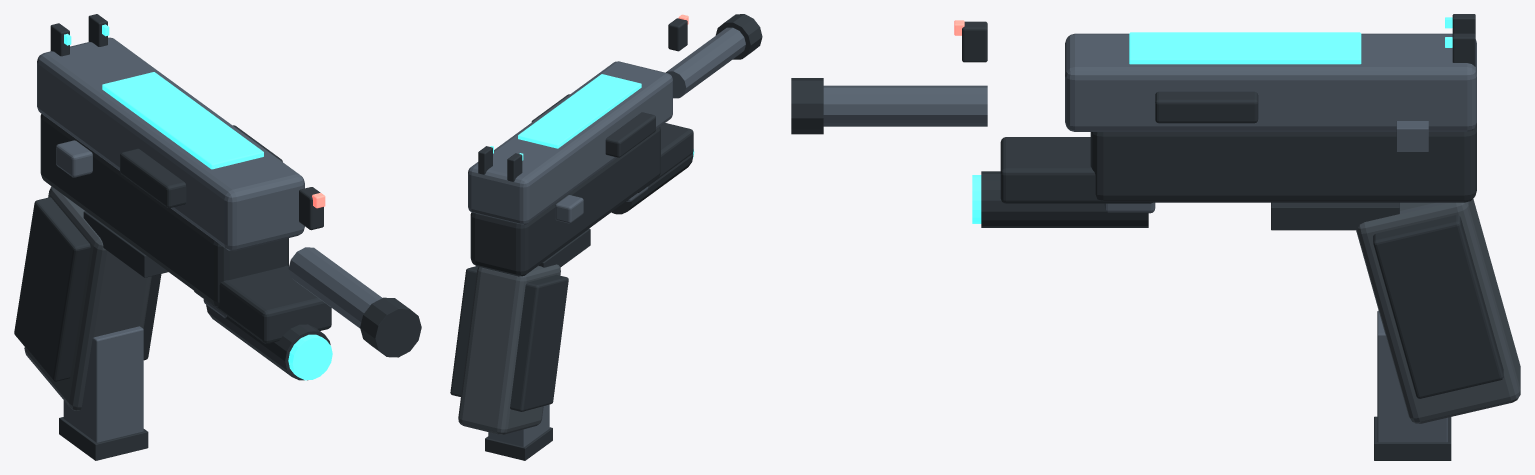
Rendered from arma_pistola.glb.
3 renders of one model, left to right at view 1: azimuth 30°, elevation 25°; view 2: azimuth 150°, elevation 25°; view 3: azimuth 270°, elevation 25°, orthographic. The views are drawn at different scales.
Parts seen in each view (by area): view 1: arma_pistola; view 2: arma_pistola; view 3: arma_pistola.
Boxes of the visible parts, x1,y1,x2,y2 form: arma_pistola: (14,14,421,460); arma_pistola: (450,14,762,460); arma_pistola: (791,14,1520,460).
Size of the model in its own units: 0.0388 by 0.1287 by 0.2.
